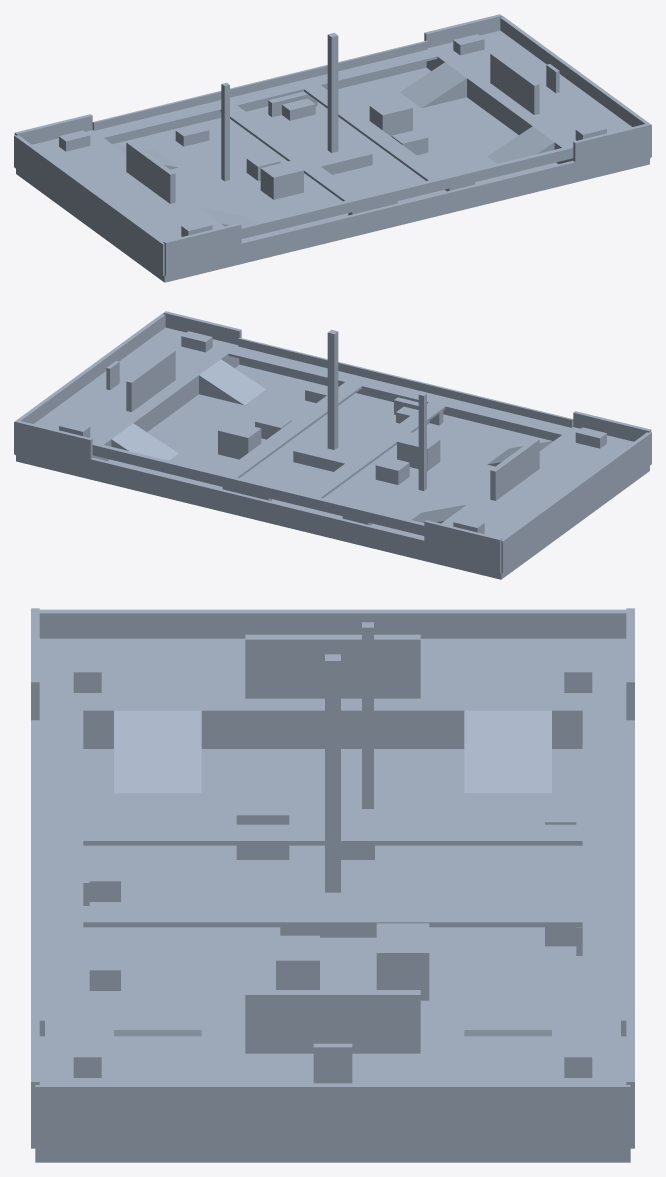
Rendered from blackflag_collision.glb.
3 views of the same model, one above another, from view 1: azimuth 30°, elevation 25°; view 2: azimuth 150°, elevation 25°; view 3: azimuth 270°, elevation 25° (orthographic). The views are drawn at different scales.
Parts seen in each view (by area): view 1: COL_main_deck, COL_stern_deck, COL_bulwark_17, COL_bow_deck, COL_end_bulwark_-32, COL_gangway_-1, COL_gangway_rail_1, COL_gangway_rail_-1, COL_end_bulwark_32, COL_crossing_gangway_-1, COL_crossing_gangway_1, COL_stern_ramp_-10 (+22 smaller); view 2: COL_main_deck, COL_stern_deck, COL_bulwark_-17, COL_bow_deck, COL_end_bulwark_-32, COL_gangway_1, COL_gangway_rail_-1, COL_gangway_rail_1, COL_end_bulwark_32, COL_crossing_gangway_-1, COL_crossing_gangway_1, COL_stern_ramp_10 (+19 smaller); view 3: COL_main_deck, COL_bow_deck, COL_end_bulwark_32, COL_stern_deck, COL_end_bulwark_-32, COL_gangway_-1, COL_gangway_1, COL_stern_screen, COL_crossing_gangway_1, COL_crossing_gangway_-1, COL_bow_screen, COL_bow_ramp_-10 (+25 smaller).
Boxes of the visible parts, x1,y1,x2,y2 form: COL_main_deck: (16,67,649,282); COL_stern_deck: (426,30,631,164); COL_bulwark_17: (164,144,651,276); COL_bow_deck: (32,130,224,241); COL_end_bulwark_-32: (14,135,164,275); COL_gangway_-1: (94,49,437,139); COL_gangway_rail_1: (241,147,573,236); COL_gangway_rail_-1: (92,40,427,130); COL_end_bulwark_32: (500,16,651,156); COL_crossing_gangway_-1: (220,105,361,201); COL_crossing_gangway_1: (304,85,444,180); COL_stern_ramp_-10: (400,62,466,108); COL_main_deck: (16,364,649,579); COL_stern_deck: (34,327,239,461); COL_bulwark_-17: (14,441,501,573); COL_bow_deck: (441,427,633,538); COL_end_bulwark_-32: (501,432,651,572); COL_gangway_1: (228,346,571,436); COL_gangway_rail_-1: (92,444,424,533); COL_gangway_rail_1: (238,337,573,427); COL_end_bulwark_32: (14,313,165,453); COL_crossing_gangway_-1: (304,402,445,498); COL_crossing_gangway_1: (221,382,361,477); COL_stern_ramp_10: (199,359,265,405); COL_main_deck: (35,749,630,1162); COL_bow_deck: (39,638,626,748); COL_end_bulwark_32: (35,1083,630,1150); COL_stern_deck: (39,1036,626,1083); COL_end_bulwark_-32: (39,609,626,638); COL_gangway_-1: (582,710,620,1036); COL_gangway_1: (45,710,83,1036); COL_stern_screen: (245,990,420,1053); COL_crossing_gangway_1: (83,906,582,927); COL_crossing_gangway_-1: (83,824,582,845); COL_bow_screen: (245,634,420,698); COL_bow_ramp_-10: (464,710,551,793).
Bounding box in the file's own units: 64.5 × 16.9 × 34.5.
